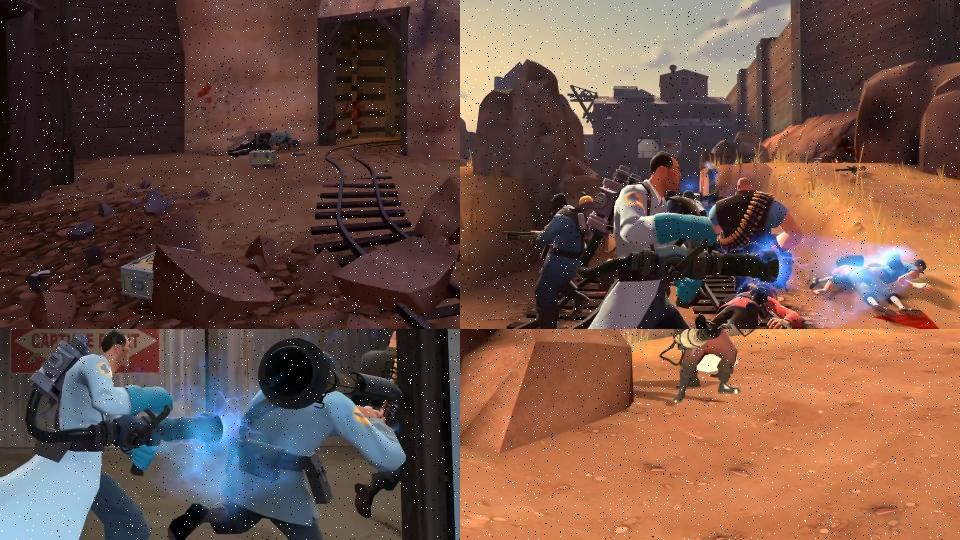Enemy: (168, 329, 418, 540), (0, 329, 231, 540), (520, 149, 779, 329), (502, 191, 589, 329), (708, 178, 804, 290), (810, 254, 923, 322), (659, 329, 753, 403), (691, 277, 802, 329), (661, 329, 739, 387), (864, 253, 935, 303), (227, 130, 300, 158)
